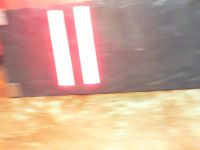switch: (71, 6, 100, 85), (46, 10, 76, 86)
